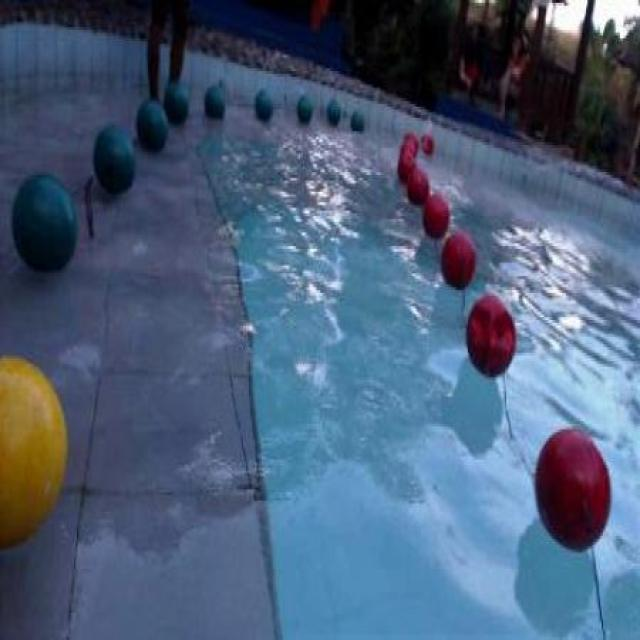buoy: (0, 351, 68, 546), (536, 426, 612, 552), (10, 172, 77, 272), (466, 292, 516, 375), (91, 123, 137, 194), (439, 227, 475, 288), (135, 100, 167, 152), (422, 192, 448, 240), (163, 79, 188, 123), (407, 169, 429, 208), (204, 83, 224, 119), (254, 86, 272, 122), (396, 151, 416, 183), (294, 93, 312, 120), (324, 98, 340, 121), (351, 108, 364, 132)
